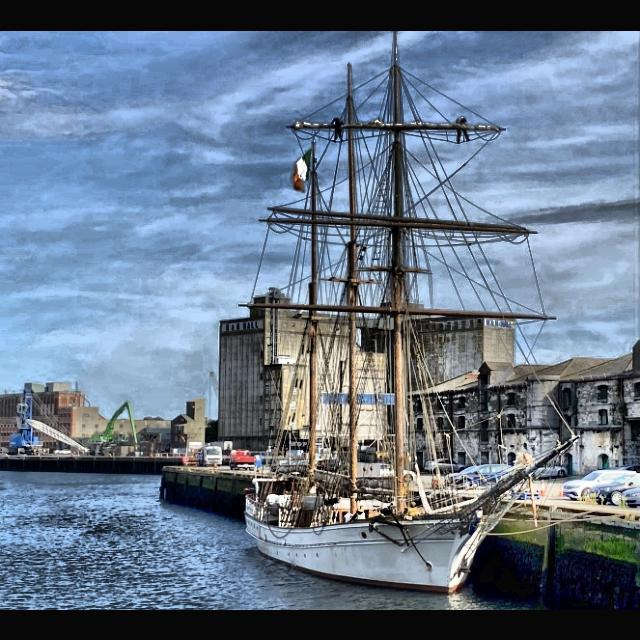sailing_vessel: (241, 60, 583, 596)
